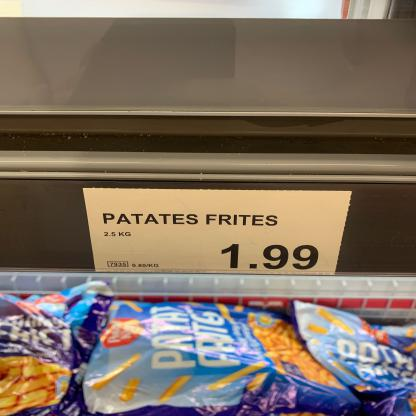prtg: (84, 189, 354, 279)
